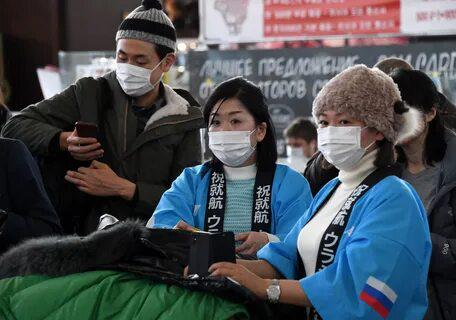mask: (320, 95, 377, 160), (207, 105, 254, 167), (116, 40, 160, 97), (285, 132, 308, 159)
